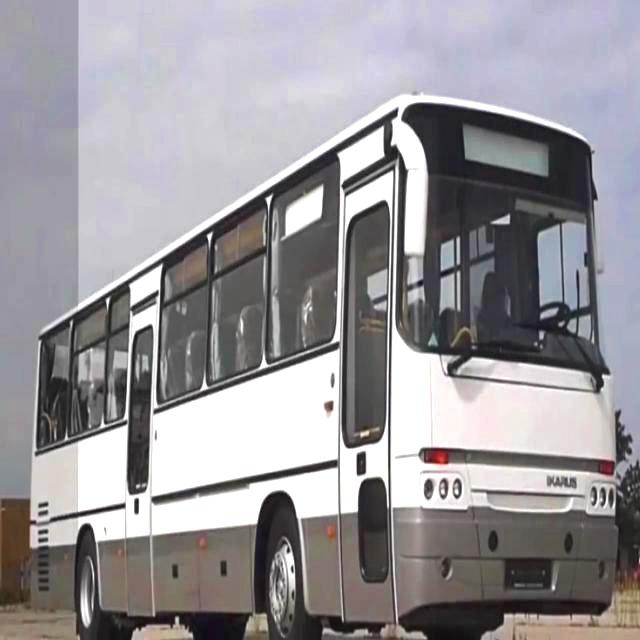bus: (4, 80, 636, 632)
